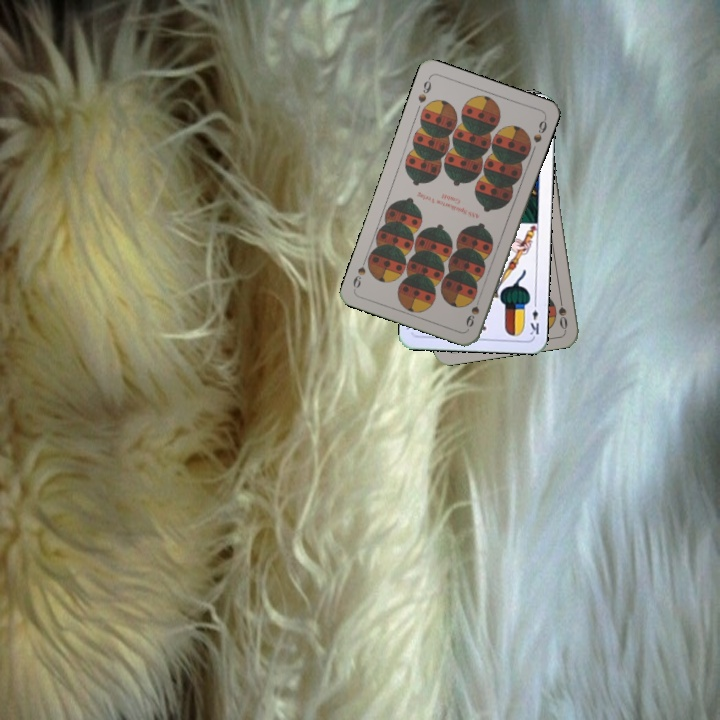EK: (526, 297, 542, 337)
S9: (462, 292, 483, 330), (414, 74, 434, 106)
SO: (554, 291, 570, 332)
